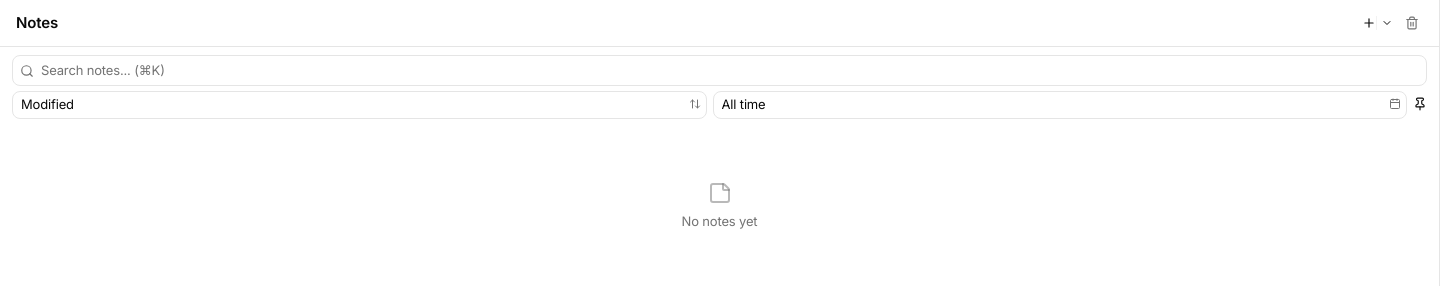
Scenario: <NoteList /> › clicking the template chevron opens the template dropdown
Click the button named "new note from template". click: (1387, 23)
box: x1=1377 y1=17 x2=1397 y2=29
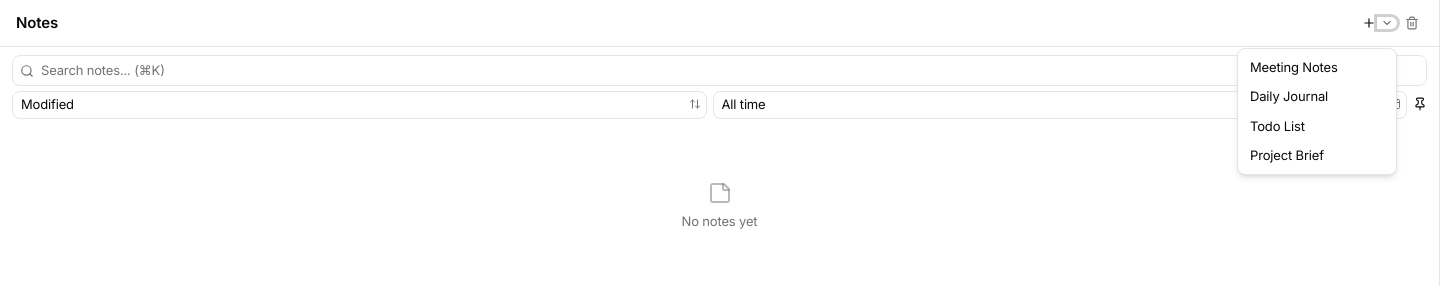
expect the button "Meeting Notes" is shown: met, box x1=1238 y1=53 x2=1396 y2=82
expect the button "Daily Journal" is shown: met, box x1=1238 y1=82 x2=1396 y2=112
expect the button "Todo List" is shown: met, box x1=1238 y1=112 x2=1396 y2=141
